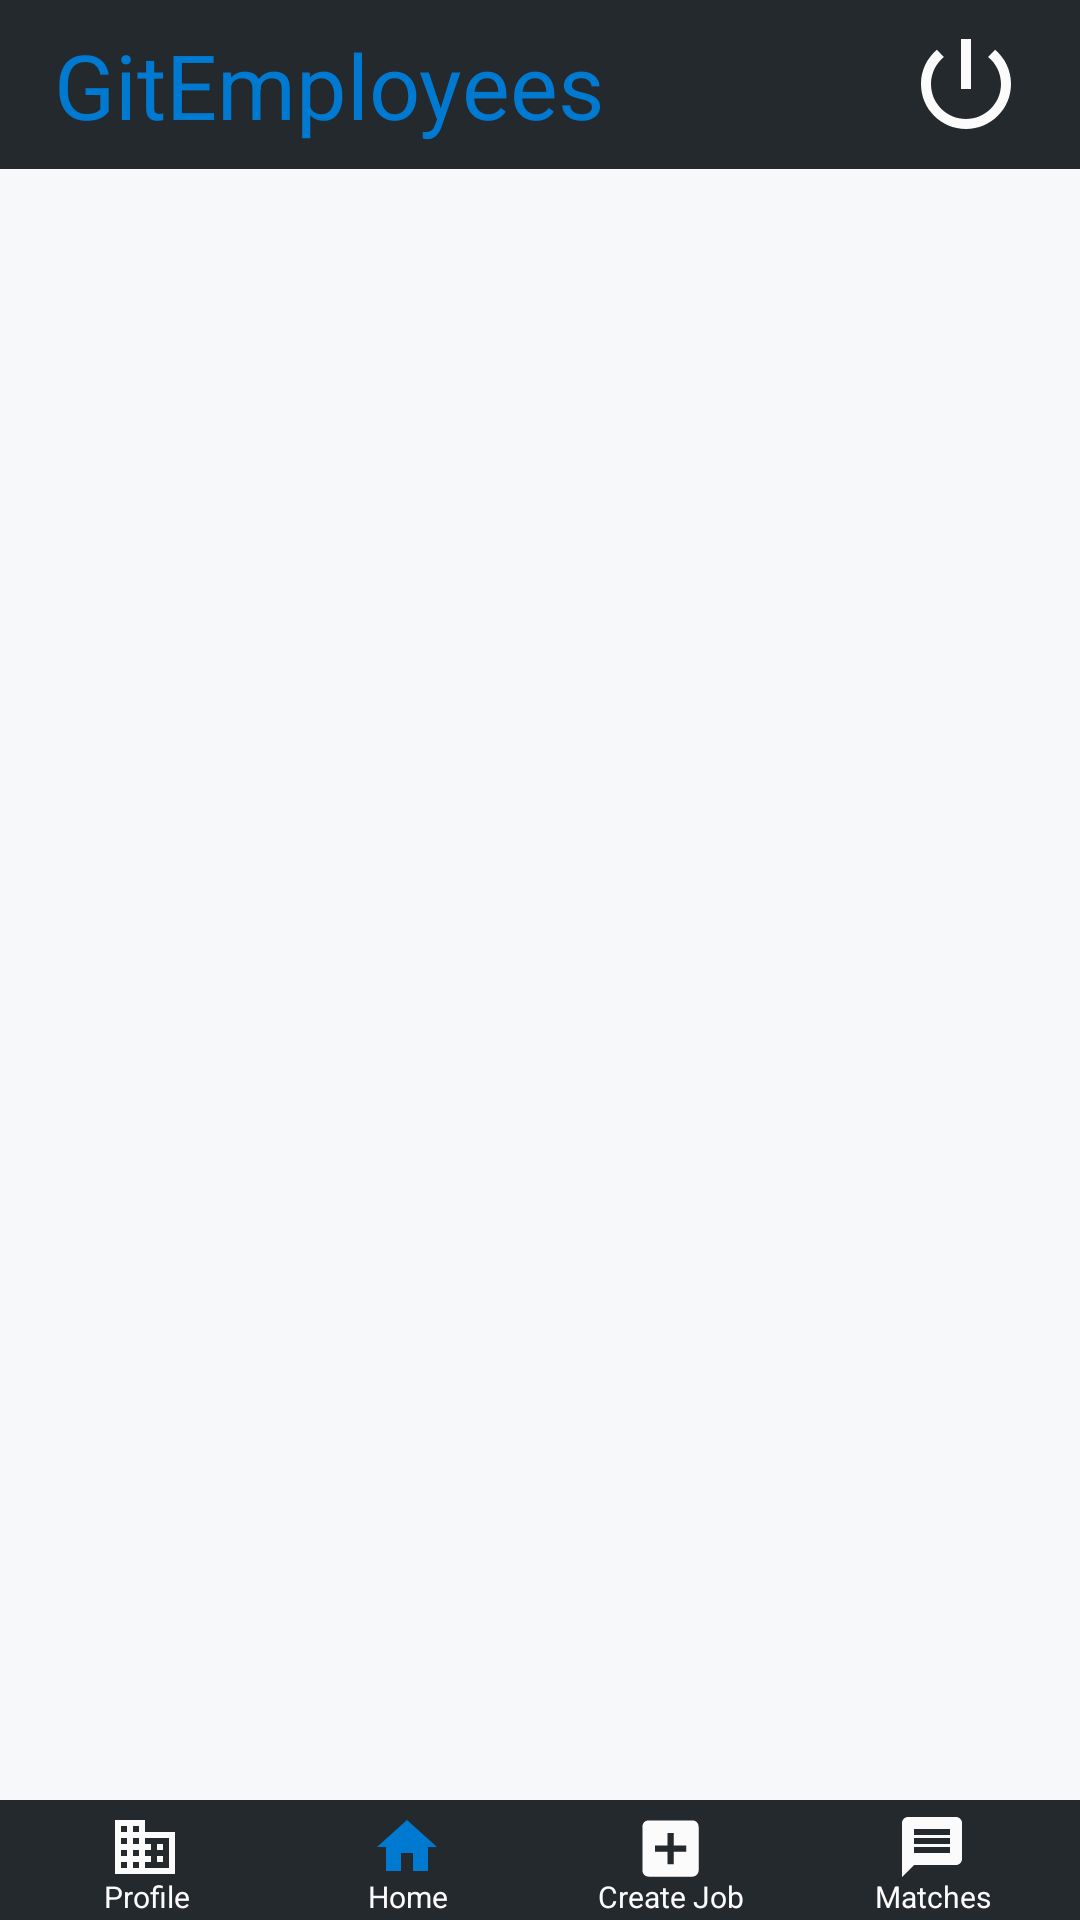

Where to tap for icons on this 1080px×1920px app screen, as [x,y]:
addwhite: [670,1848]
businesswhite: [145,1847]
messagewhite: [932,1847]
powerwhite: [966,84]
